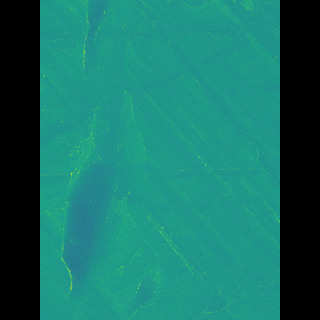Loch: (79, 4, 160, 315)
